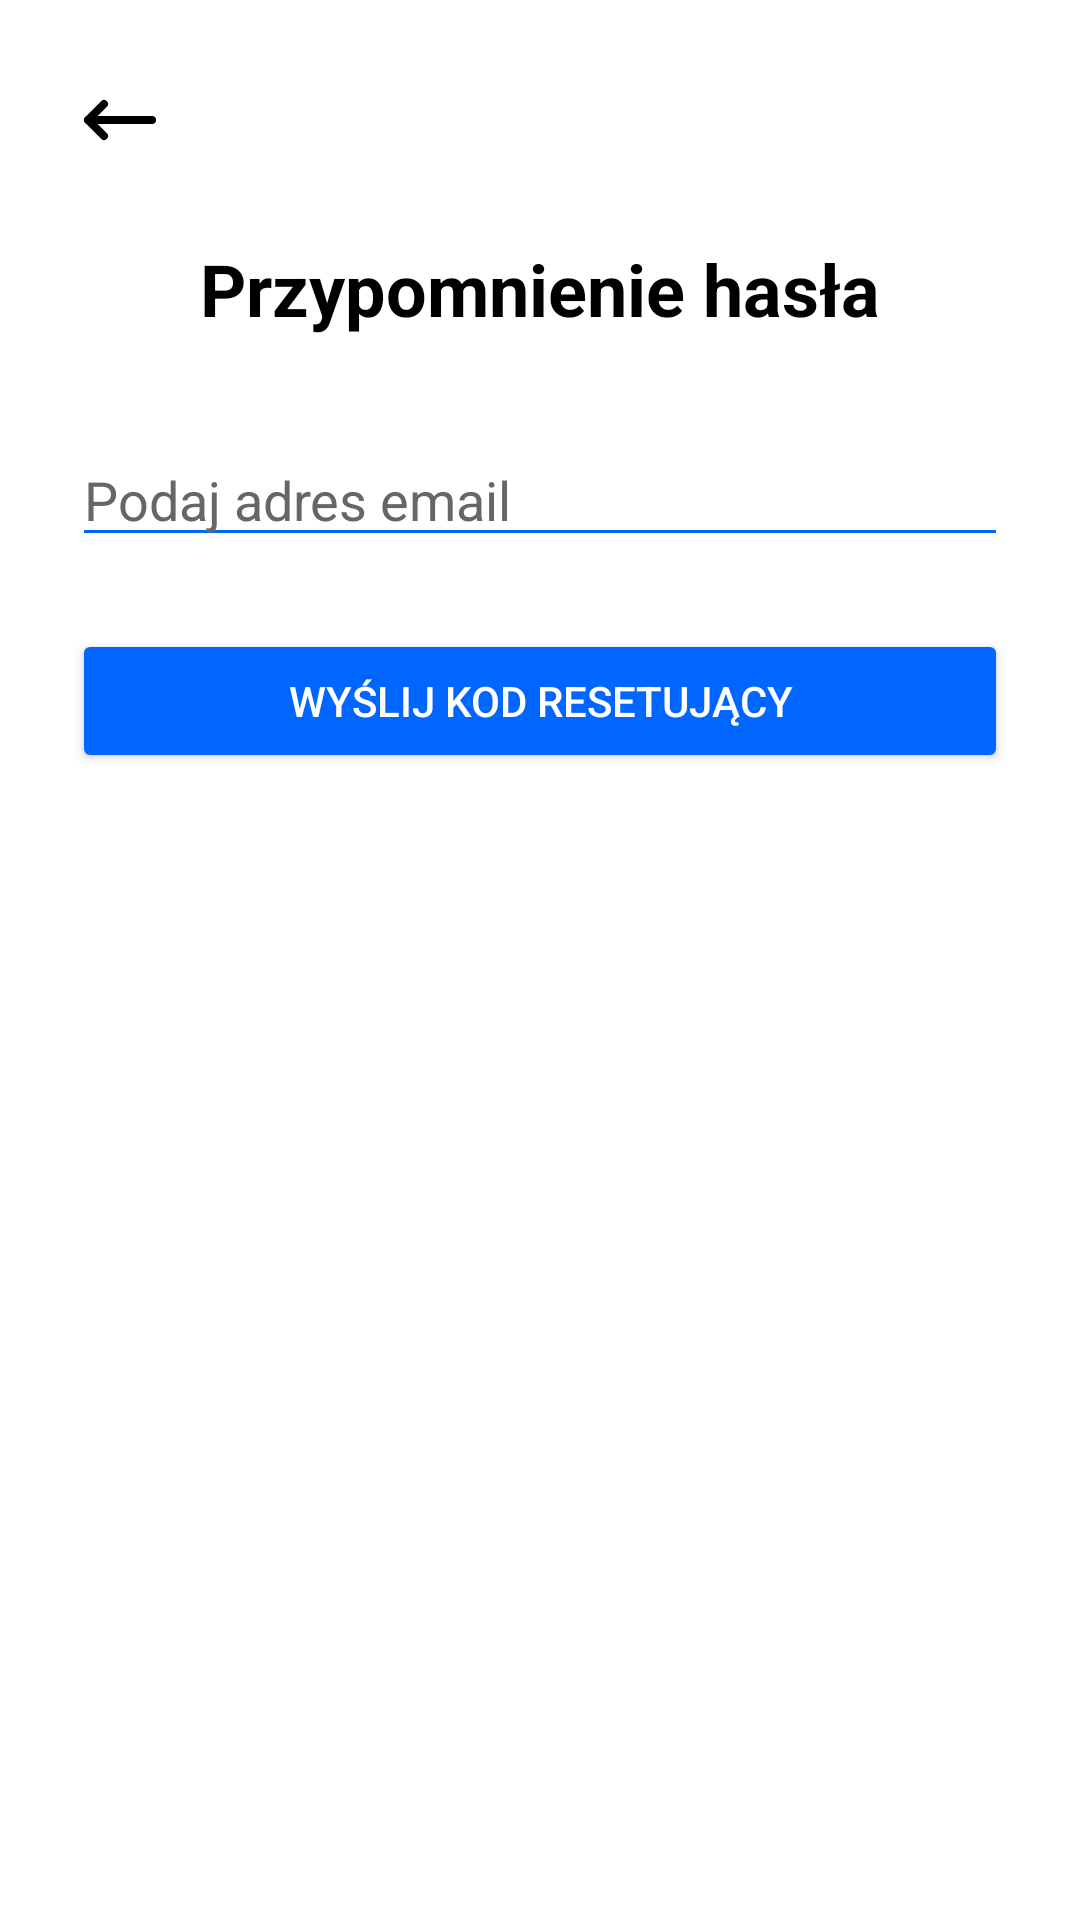

Locate icon controls on the screen. Image size 1080px x 1920px, boxes as (x1, y1, x2, y2).
arrow: (83, 99, 156, 141)
